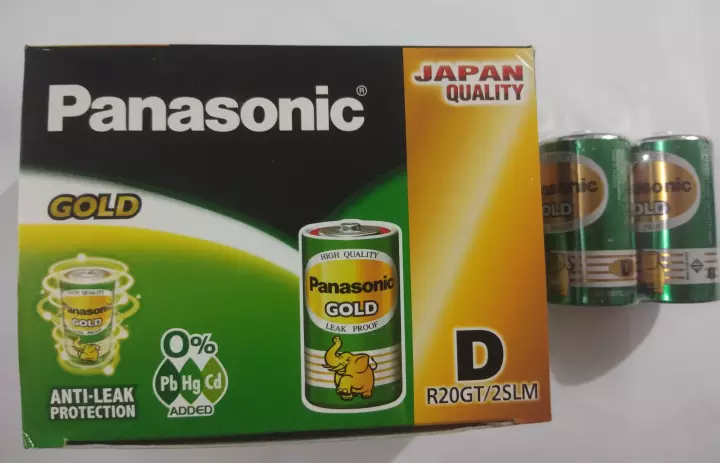Battery: (540, 127, 643, 313), (629, 129, 719, 304)
